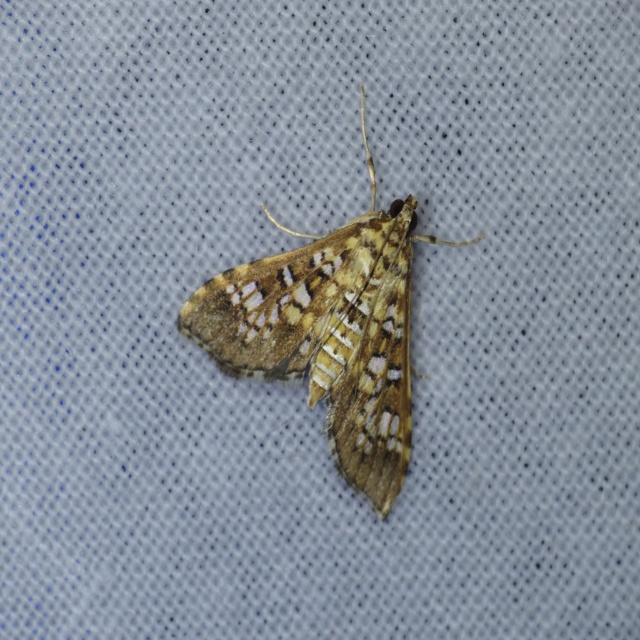Butterfly: (183, 92, 488, 501)
